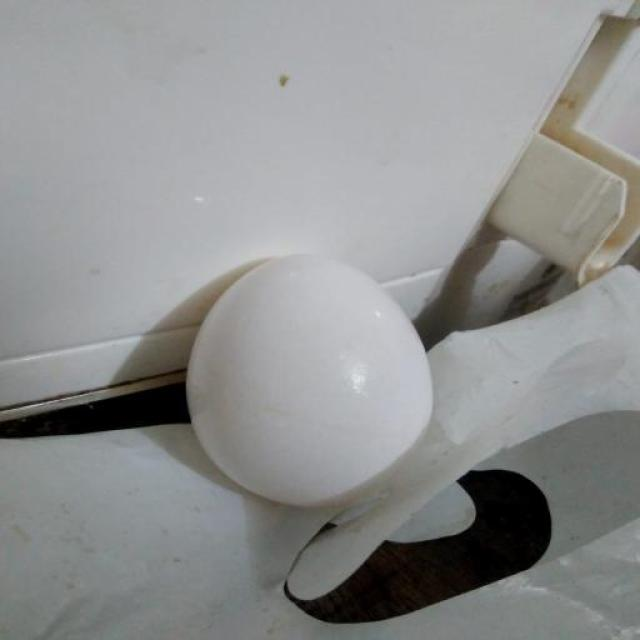telur: (184, 252, 438, 508)
